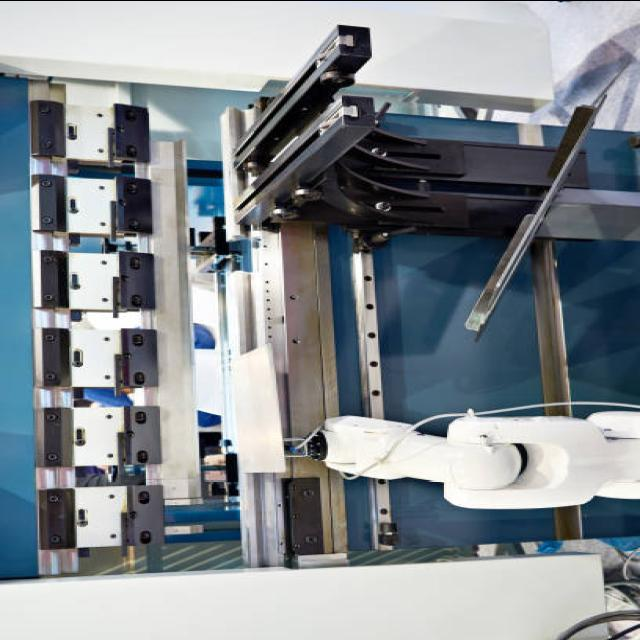Robotic-arm: (301, 394, 640, 516)
